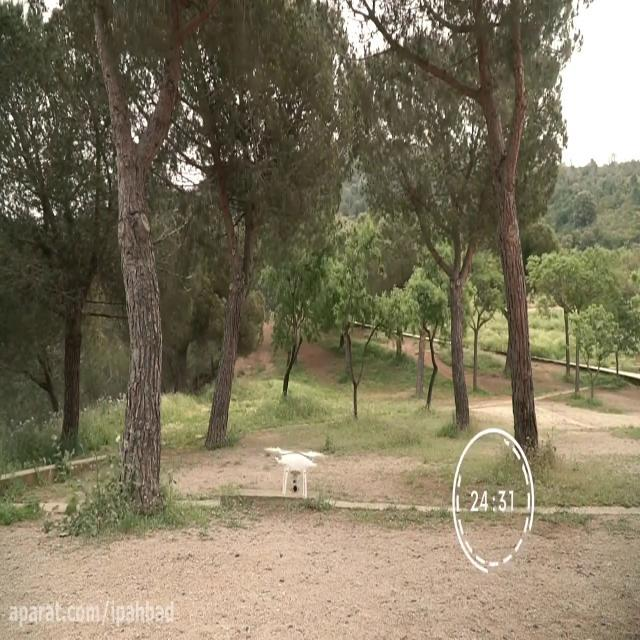drone: (262, 442, 328, 500)
